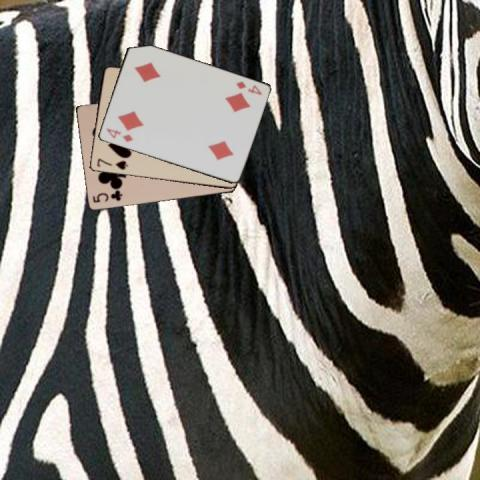4d: (233, 78, 263, 97), (103, 126, 134, 144)
5c: (90, 189, 123, 204)
7s: (94, 156, 129, 172)
